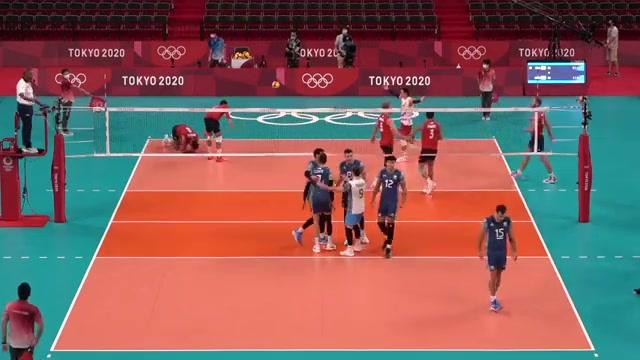ball: (271, 79, 280, 89)
